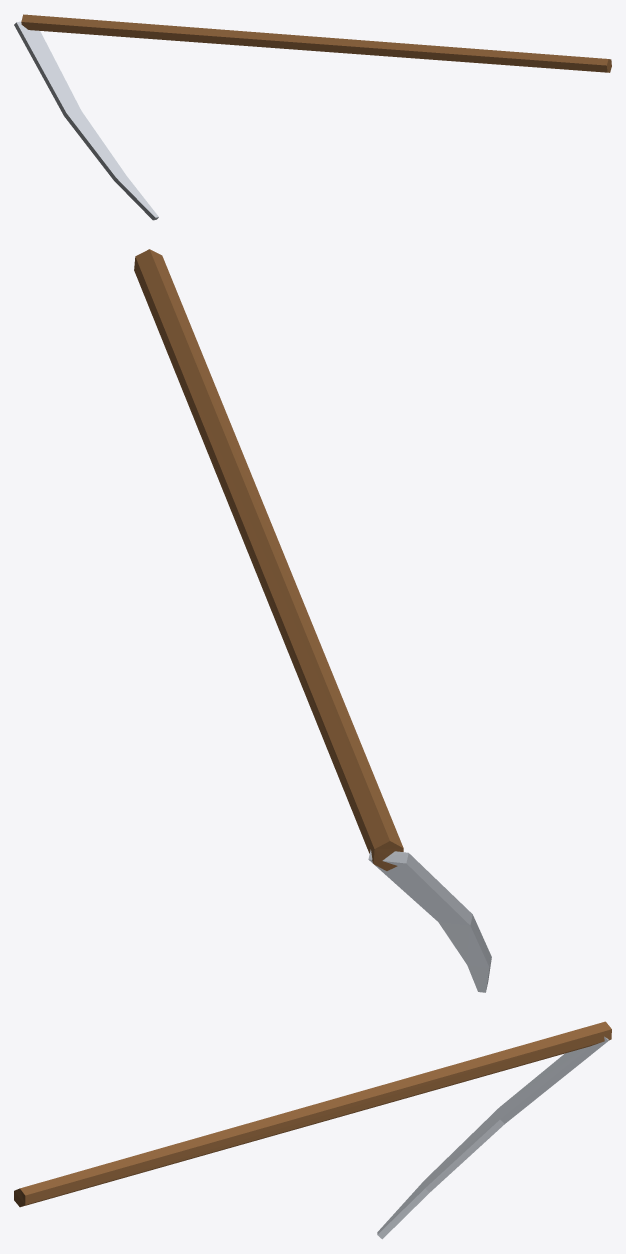
File: prop_scythe_male.obj
3 renders of one model, top to bottom at view 1: azimuth 30°, elevation 25°; view 2: azimuth 150°, elevation 25°; view 3: azimuth 270°, elevation 25°, orthographic. The views are drawn at different scales.
Visible parts, largest first — view 1: Arm.R.Lower.Scythe.Snath, Arm.R.Lower.Scythe.Blade; view 2: Arm.R.Lower.Scythe.Snath, Arm.R.Lower.Scythe.Blade; view 3: Arm.R.Lower.Scythe.Snath, Arm.R.Lower.Scythe.Blade.
Boxes of the visible parts, bbox=[...] form: Arm.R.Lower.Scythe.Snath: bbox=[21, 14, 611, 72]; Arm.R.Lower.Scythe.Blade: bbox=[14, 21, 158, 220]; Arm.R.Lower.Scythe.Snath: bbox=[134, 249, 403, 870]; Arm.R.Lower.Scythe.Blade: bbox=[368, 849, 491, 992]; Arm.R.Lower.Scythe.Snath: bbox=[14, 1021, 611, 1207]; Arm.R.Lower.Scythe.Blade: bbox=[377, 1036, 608, 1239].
Size of the model in its own units: 1.18 by 0.588 by 1.32.
